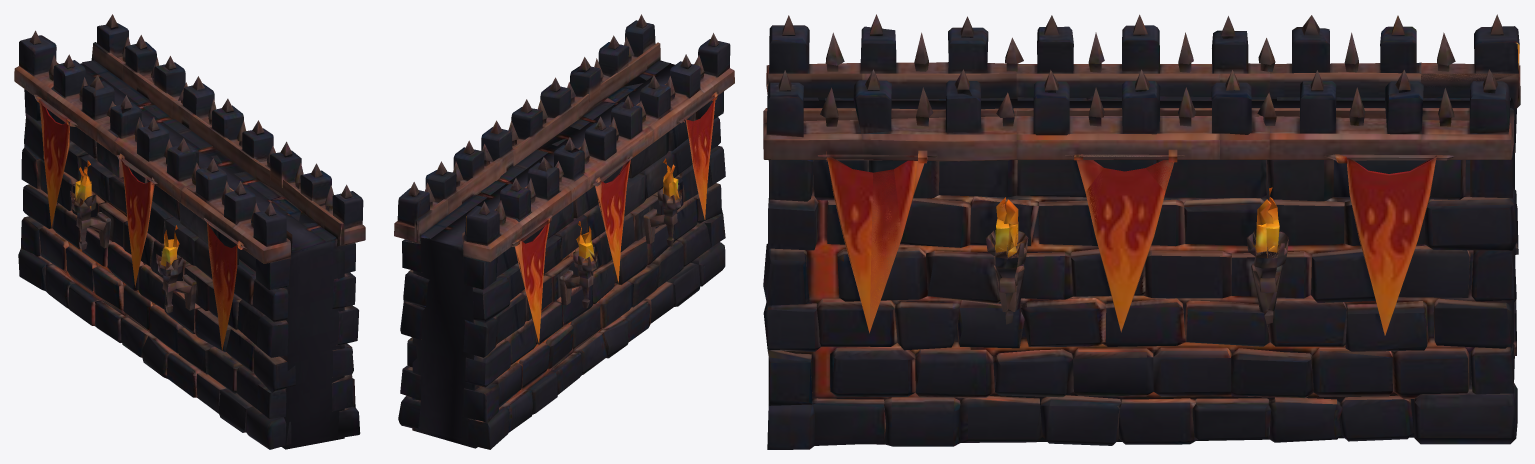
File: volcan_balcon.glb
The picture shows the model from 3 angles, left to right: view 1: azimuth 30°, elevation 25°; view 2: azimuth 150°, elevation 25°; view 3: azimuth 270°, elevation 25°; orthographic projection. The views are drawn at different scales.
Visible parts, largest first — view 1: tripo_node_64e21c83-3b26-47a0-91e5-44cdfd6a415c; view 2: tripo_node_64e21c83-3b26-47a0-91e5-44cdfd6a415c; view 3: tripo_node_64e21c83-3b26-47a0-91e5-44cdfd6a415c.
Boxes of the visible parts, left/top/right/bottom form: tripo_node_64e21c83-3b26-47a0-91e5-44cdfd6a415c: left=14, top=14, right=365, bottom=449; tripo_node_64e21c83-3b26-47a0-91e5-44cdfd6a415c: left=394, top=14, right=734, bottom=449; tripo_node_64e21c83-3b26-47a0-91e5-44cdfd6a415c: left=763, top=14, right=1520, bottom=449.
Size of the model in its own units: 0.3431 by 0.5503 by 0.9993.
1 material, 1 textured.
